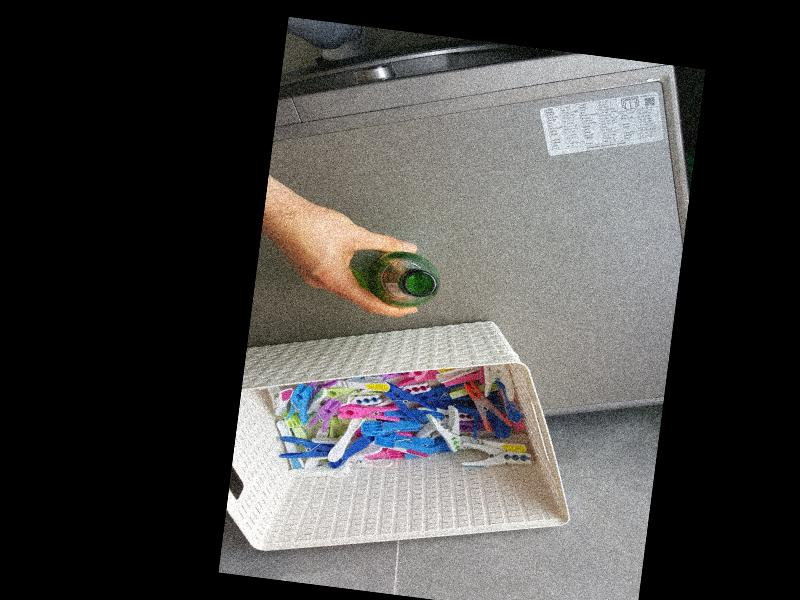Beer: (358, 246, 443, 311)
